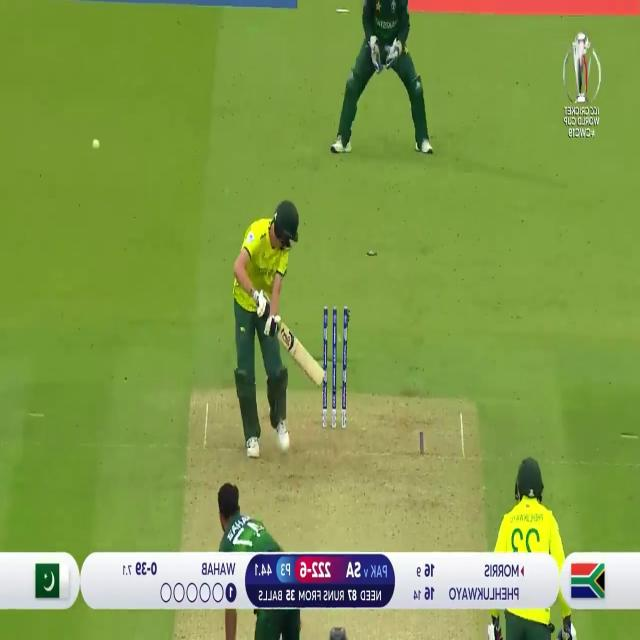ball: (84, 127, 104, 161)
